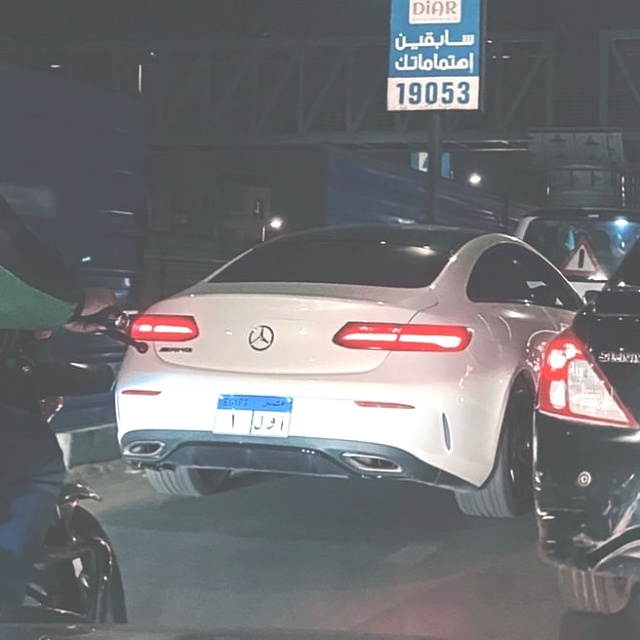License Plate: (211, 392, 294, 442)
